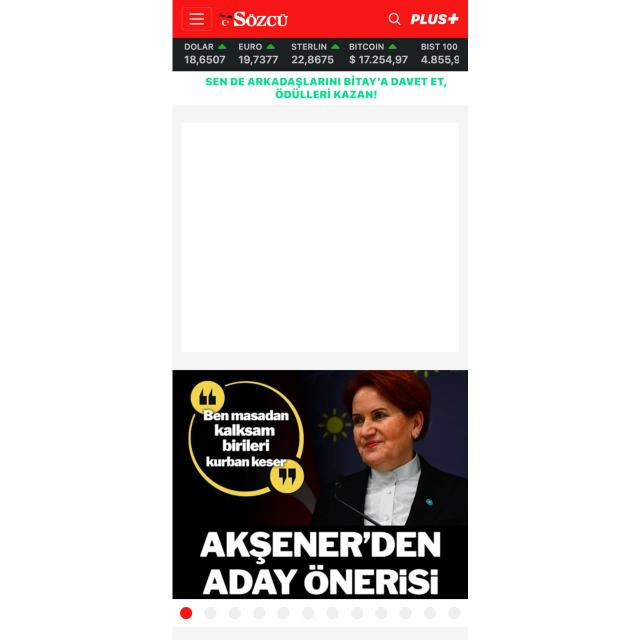logo: (215, 9, 291, 31)
navigation: (182, 8, 212, 31)
